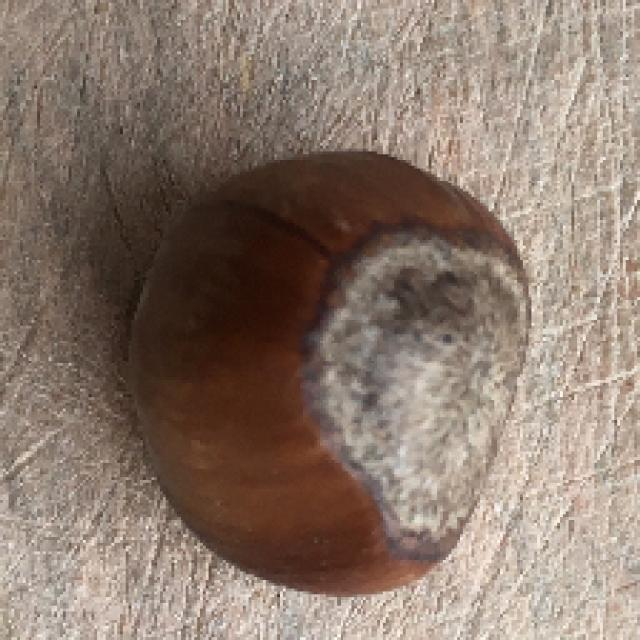DamagedHazelnut: (131, 151, 528, 597)
